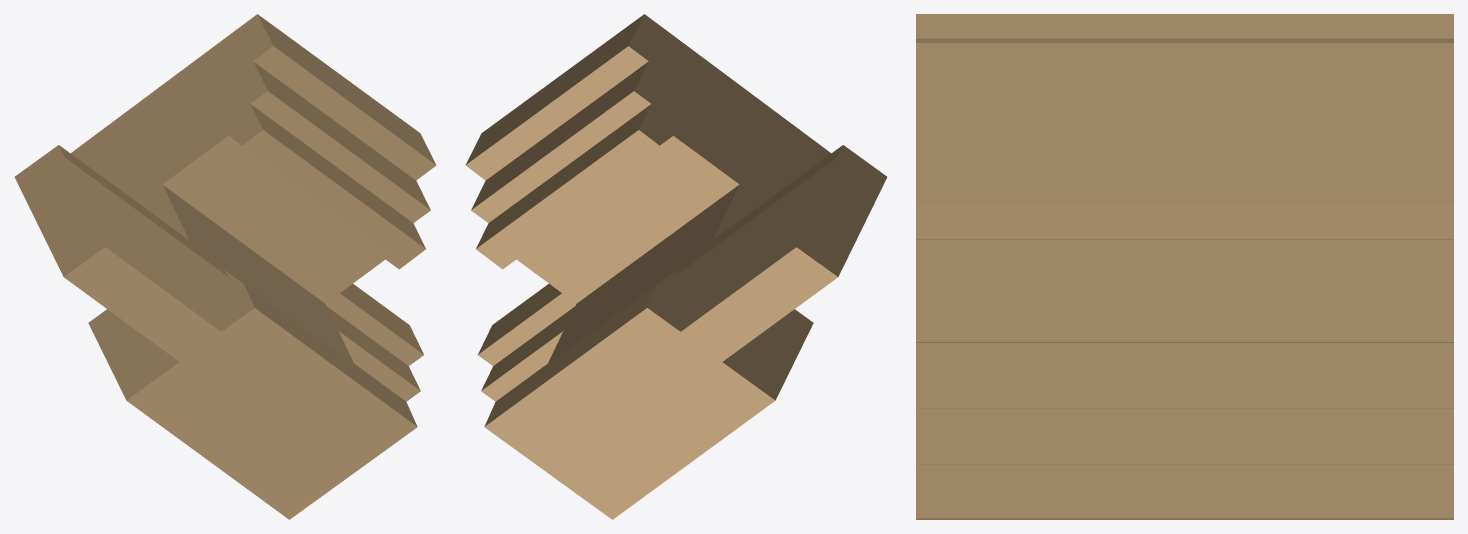
3 renders of one model, left to right at view 1: azimuth 30°, elevation 25°; view 2: azimuth 150°, elevation 25°; view 3: azimuth 270°, elevation 25°, orthographic. The views are drawn at different scales.
Parts seen in each view (by area): view 1: 0_0_1_1_2_2_0_2_2; view 2: 0_0_1_1_2_2_0_2_2; view 3: 0_0_1_1_2_2_0_2_2.
Part boxes in pixels (left/top/right/bottom): 0_0_1_1_2_2_0_2_2: left=14, top=14, right=436, bottom=519; 0_0_1_1_2_2_0_2_2: left=465, top=14, right=887, bottom=519; 0_0_1_1_2_2_0_2_2: left=916, top=14, right=1453, bottom=519.
Size of the model in its own units: 27.52 by 36 by 30.
